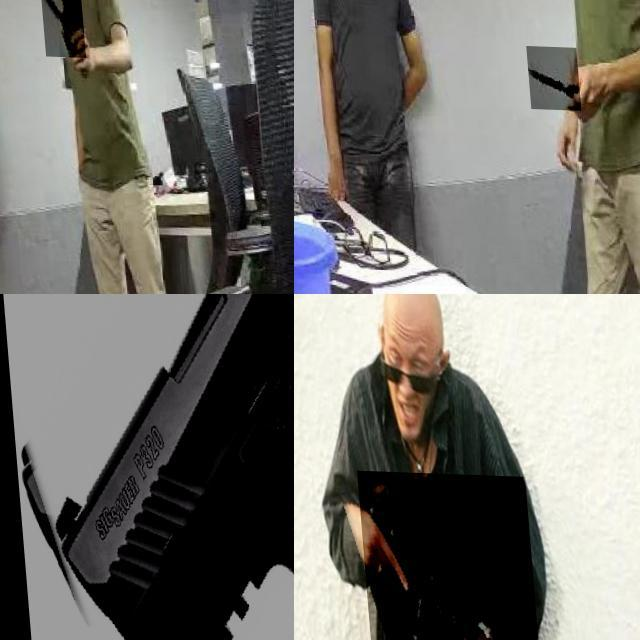-: (520, 44, 574, 108), (35, 0, 80, 54)
gun-knife-thesis - v11 Yolov5 augmented: (0, 294, 294, 640), (353, 469, 544, 640)
